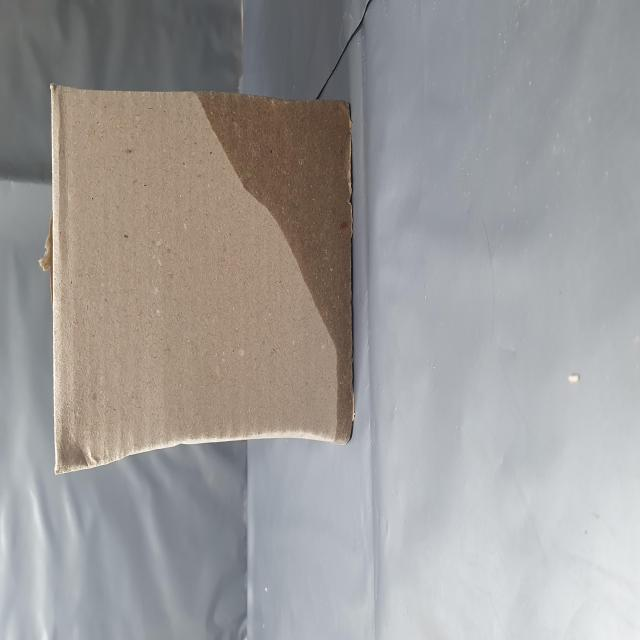wet: (120, 344, 322, 640)
